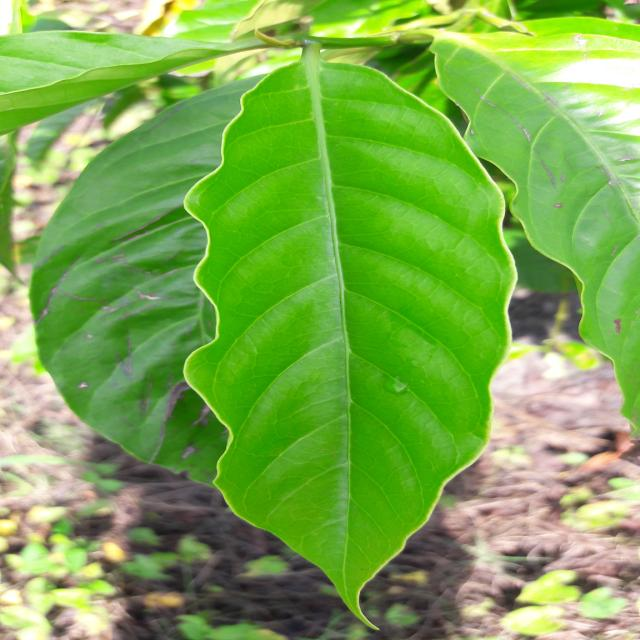Sanas: (165, 48, 518, 601)
